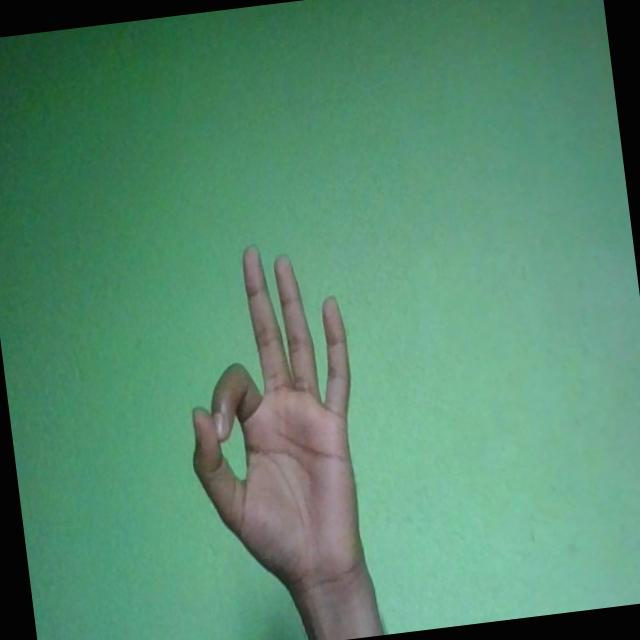Rock On: (165, 235, 378, 608)
